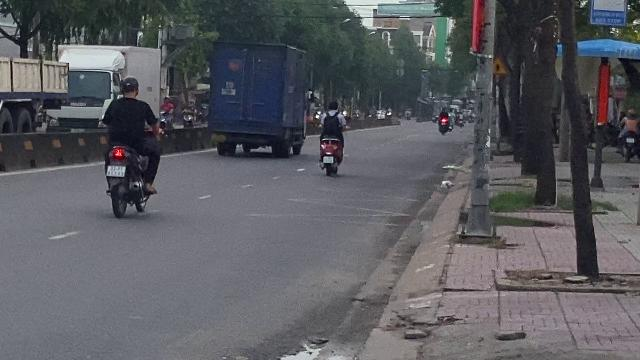helmet: (118, 76, 140, 98)
licenseplate: (107, 164, 125, 176)
motorcyclist: (97, 75, 161, 217)
